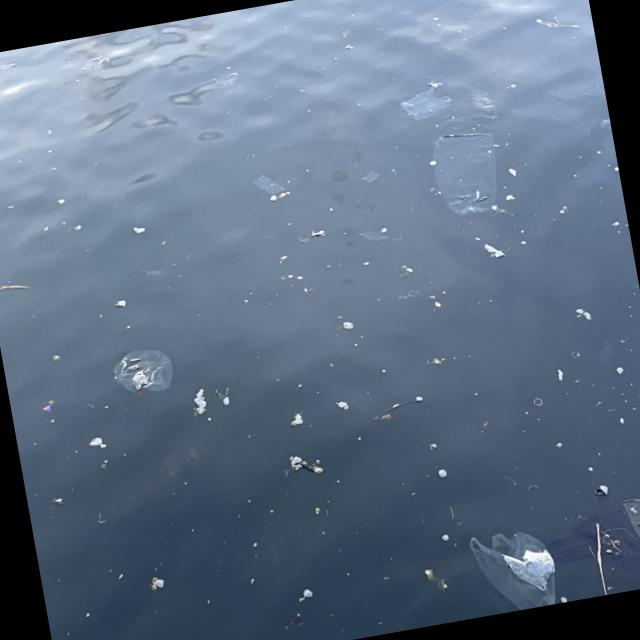foam: (485, 240, 506, 261)
plastic bag: (462, 533, 557, 603), (110, 350, 174, 396)
